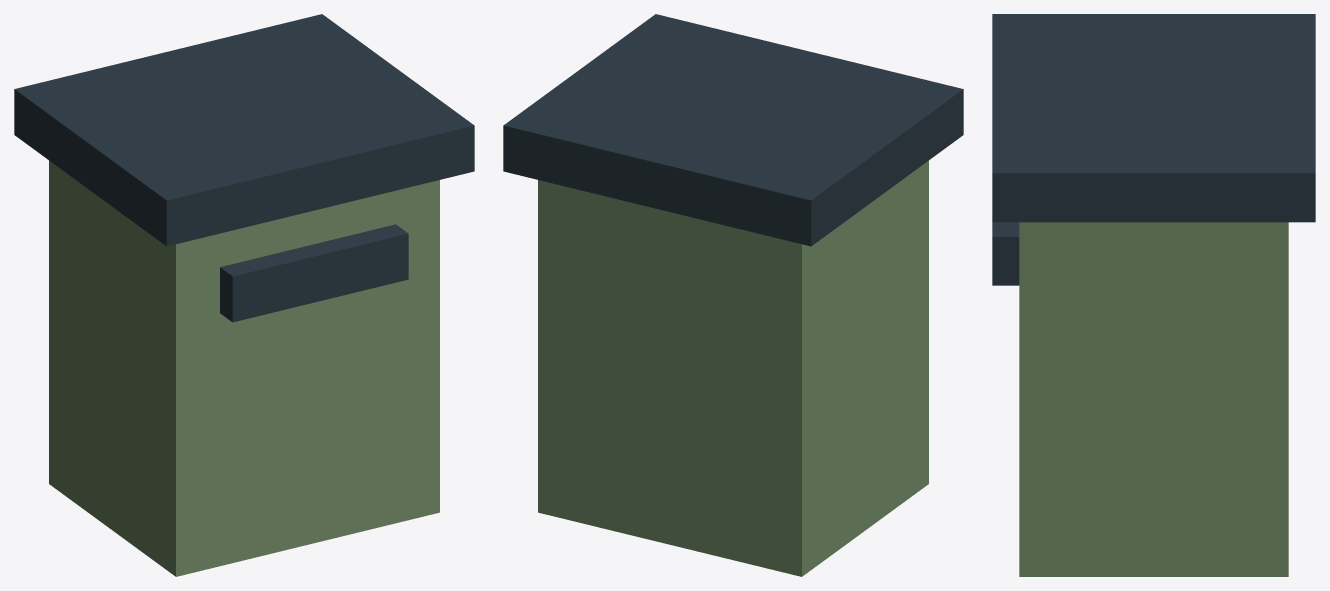
File: gardening-08.glb
The picture shows the model from 3 angles, left to right: view 1: azimuth 30°, elevation 25°; view 2: azimuth 150°, elevation 25°; view 3: azimuth 270°, elevation 25°; orthographic projection. The views are drawn at different scales.
Parts seen in each view (by area): view 1: Compost bin; view 2: Compost bin; view 3: Compost bin.
Boxes of the visible parts, x1=… form: Compost bin: x1=14, y1=14, x2=474, y2=576; Compost bin: x1=503, y1=14, x2=963, y2=576; Compost bin: x1=992, y1=14, x2=1315, y2=576.
Bounding box in the file's own units: 1.12 × 1.36 × 0.96.
